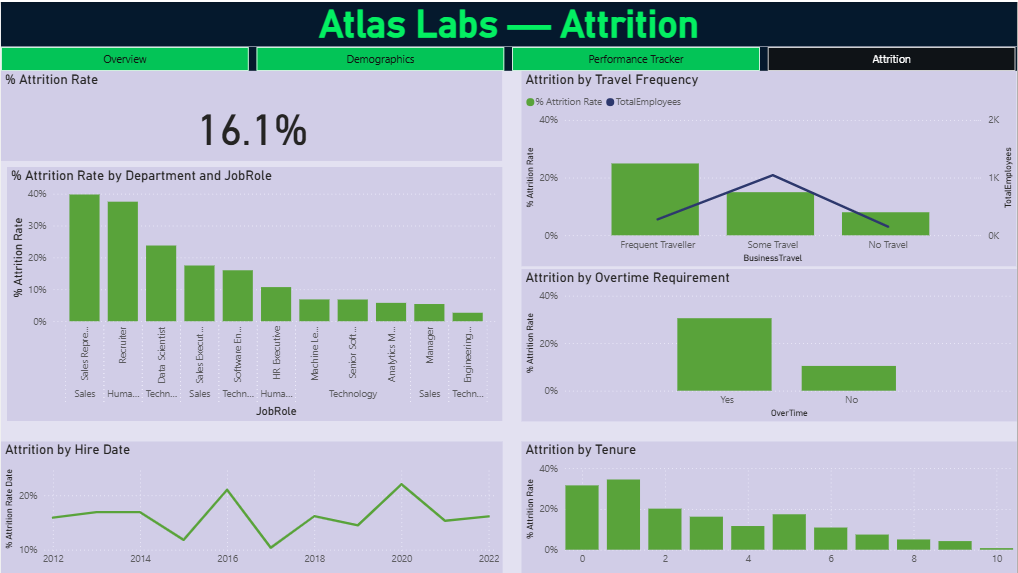

What the dashboard file says about the page in this screenshot:
{"tool":"powerbi","page":{"name":"Attrition","canvas":[1280,720],"ordinal":3},"visuals":[{"type":"card","title":"% Attrition Rate","fields":{"Values":["_Measures.% Attrition Rate"]},"box":[0,86.9,631.2,113.4],"z":0},{"type":"columnChart","fields":{"Category":["DimEmployee.Department","DimEmployee.JobRole"],"Y":["_Measures.% Attrition Rate"]},"box":[8,208,624,320],"z":1000},{"type":"lineChart","title":"Attrition by Hire Date","fields":{"Y":["_Measures.% Attrition Rate Date"],"Category":["DimDate.Date.Variation.Date Hierarchy.Year","DimDate.Date.Variation.Date Hierarchy.Quarter","DimDate.Date.Variation.Date Hierarchy.Month","DimDate.Date.Variation.Date Hierarchy.Day"]},"box":[0,554,632,166],"z":2000},{"type":"lineStackedColumnComboChart","title":"Attrition by Travel Frequency","fields":{"Y":["_Measures.% Attrition Rate"],"Category":["DimEmployee.BusinessTravel"],"Y2":["_Measures.TotalEmployees"]},"box":[655.8,86.9,623.6,245.7],"z":3000},{"type":"columnChart","title":"Attrition by Tenure","fields":{"Category":["DimEmployee.YearsAtCompany"],"Y":["_Measures.% Attrition Rate"]},"box":[656,554,624,166],"z":3000},{"type":"shape","title":"Atlas Labs — Attrition","box":[0,0,1280,56],"z":4000},{"type":"columnChart","title":"Attrition by Overtime Requirement","fields":{"Category":["DimEmployee.OverTime"],"Y":["_Measures.% Attrition Rate"]},"box":[656,336,624,192],"z":4000},{"type":"pageNavigator","box":[0,56,1280,30],"z":6000}]}

Visuals, with their boxes in screenshot pixels (x1, y1, x2, y2), scaled from the page's 1280x720 canvas onto the 1018x573 screenshot:
"% Attrition Rate" card: <region>0, 69, 502, 159</region>
columnChart - DimEmployee.Department x DimEmployee.JobRole: <region>6, 166, 503, 420</region>
"Attrition by Hire Date" lineChart: <region>0, 441, 503, 572</region>
"Attrition by Travel Frequency" lineStackedColumnComboChart: <region>522, 69, 1017, 265</region>
"Attrition by Tenure" columnChart: <region>522, 441, 1017, 572</region>
"Atlas Labs — Attrition" shape: <region>0, 0, 1017, 45</region>
"Attrition by Overtime Requirement" columnChart: <region>522, 267, 1017, 420</region>
pageNavigator: <region>0, 45, 1017, 68</region>
